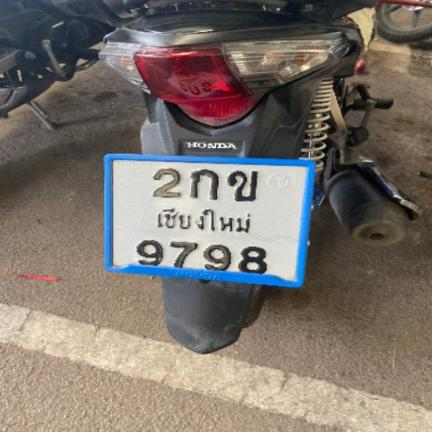2: (149, 166, 183, 198)
7: (167, 238, 198, 269)
8: (237, 244, 269, 275)
9: (132, 238, 165, 268), (201, 242, 233, 271)
A01: (187, 168, 221, 201)
A02: (224, 168, 258, 202)
CMI: (151, 204, 257, 235)
